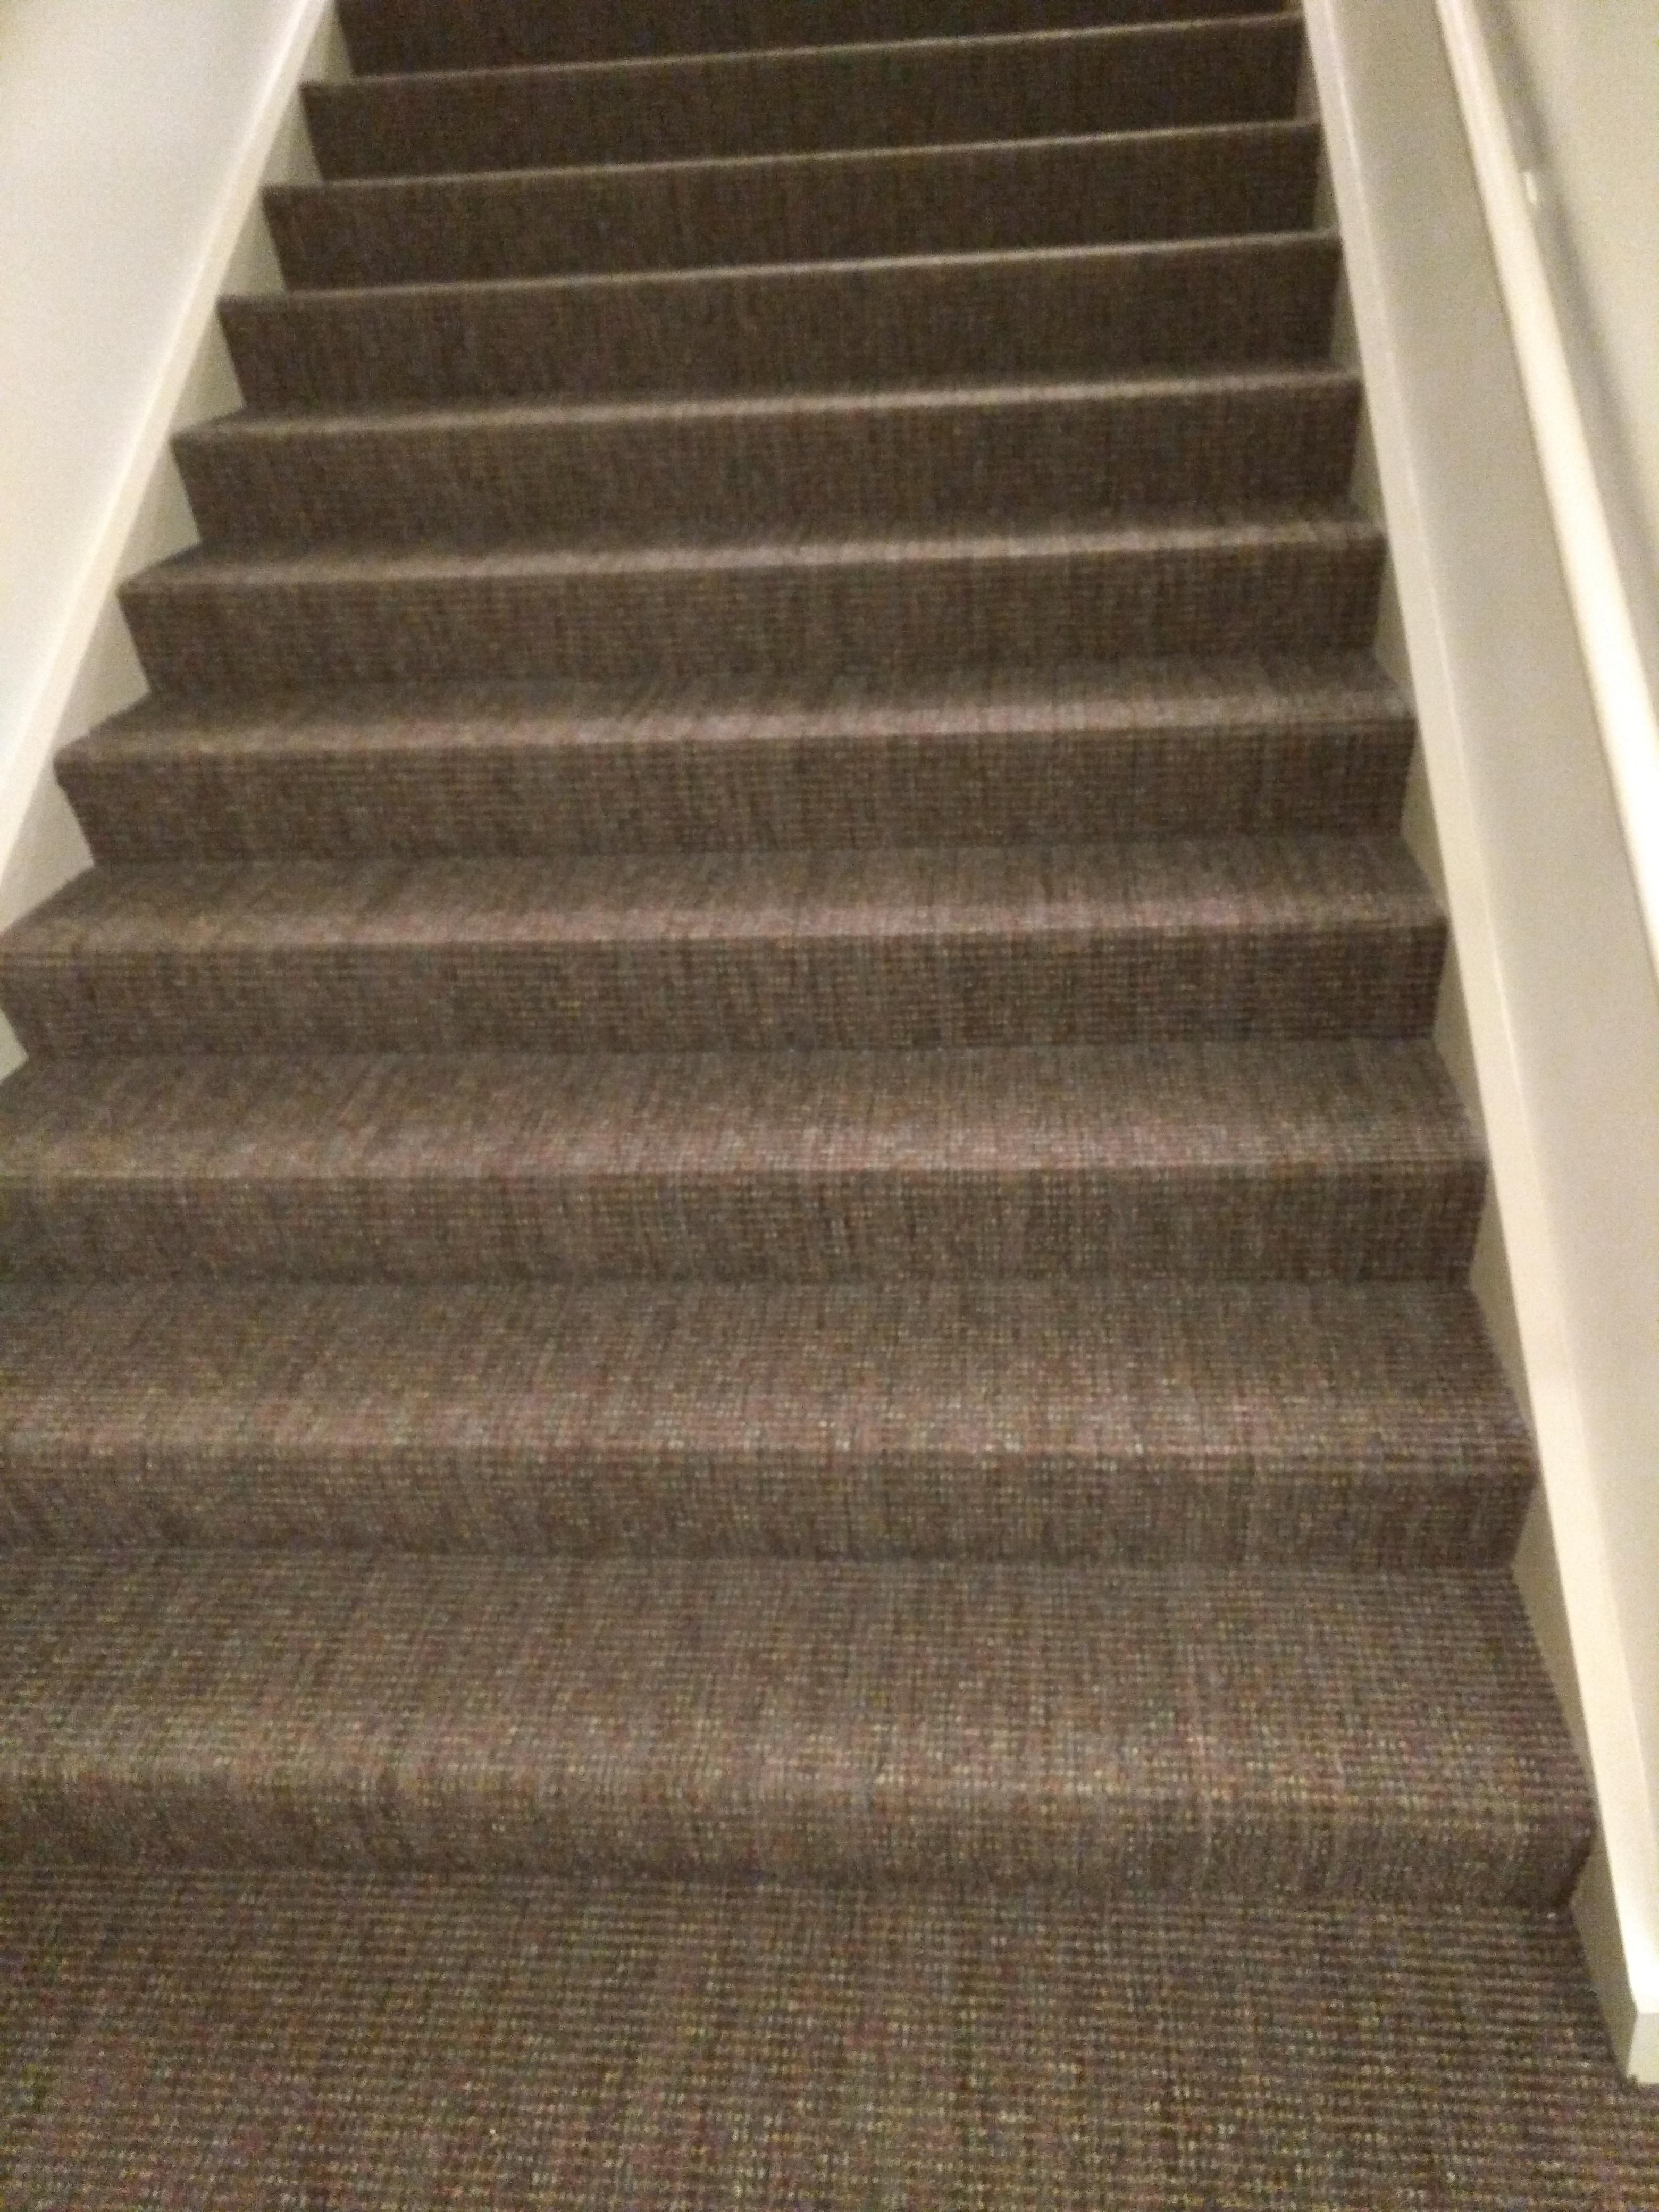stairs_up: (5, 12, 1542, 1902)
